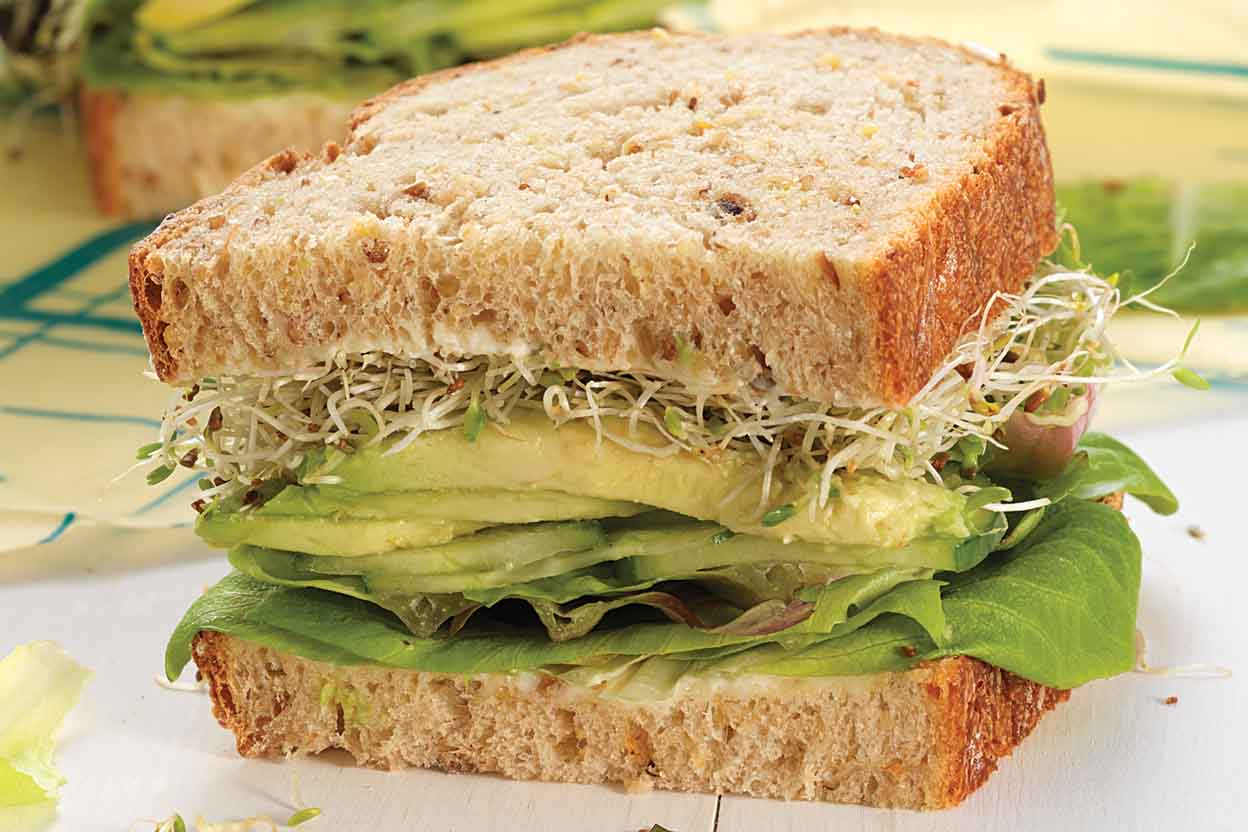sandwich: (91, 9, 1198, 832)
